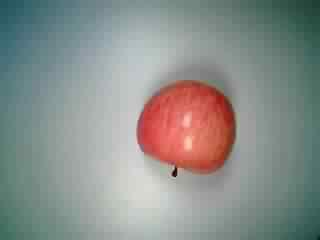apple: (134, 79, 239, 181)
